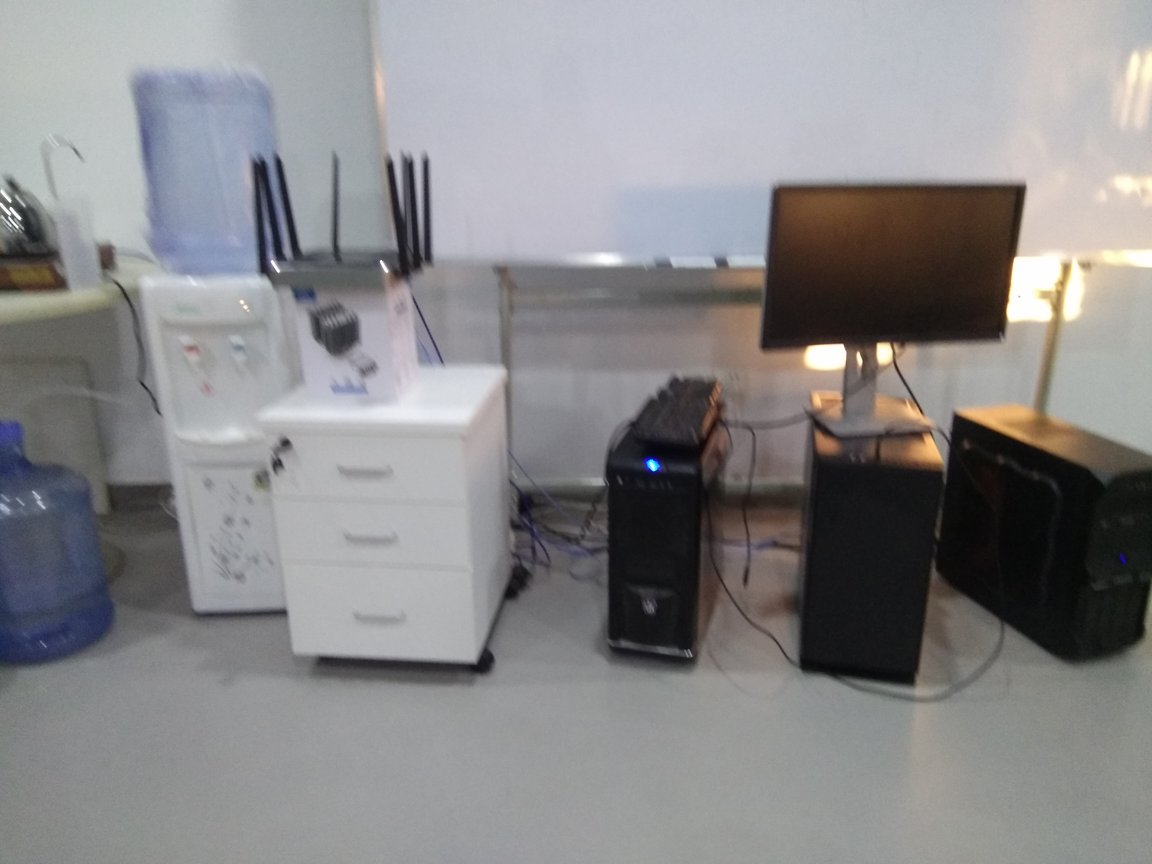computer: (945, 402, 1152, 679), (808, 386, 946, 697), (607, 398, 737, 680)
drawer chest: (269, 363, 536, 679)
monitor: (760, 173, 1025, 451)
scuttlebutt: (116, 66, 313, 289), (1, 422, 130, 668)
water dispenser: (142, 264, 318, 628)
